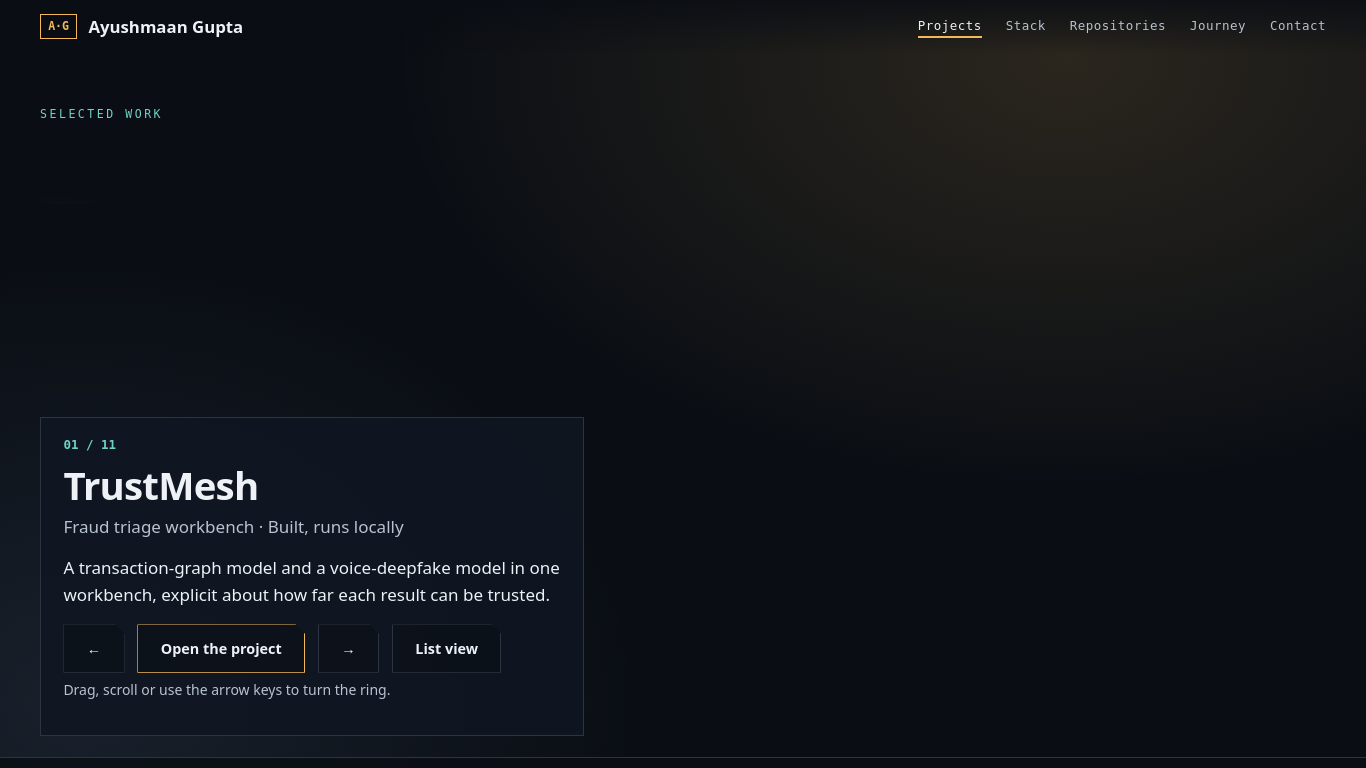
Test: the pages › projects: lists every project in the accessible list view
Click the button "List view".
click(447, 649)  # box x1=392 y1=624 x2=502 y2=673
(page scrolled)
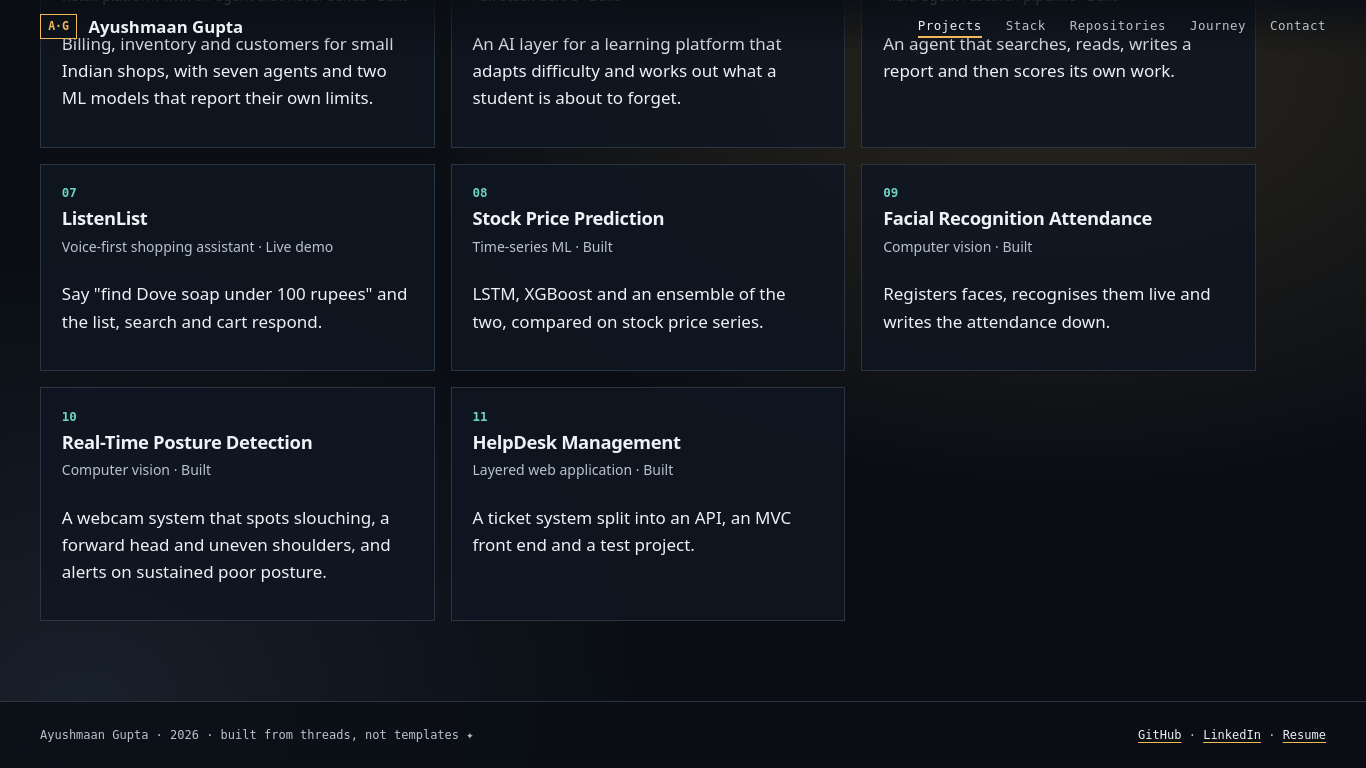
Expected: the heading "ListenList" is shown, x1=62 y1=205 x2=147 y2=230
Expected: the heading "Stock Price Prediction" is shown, x1=472 y1=205 x2=664 y2=230
Expected: the heading "Facial Recognition Attendance" is shown, x1=883 y1=205 x2=1152 y2=230
